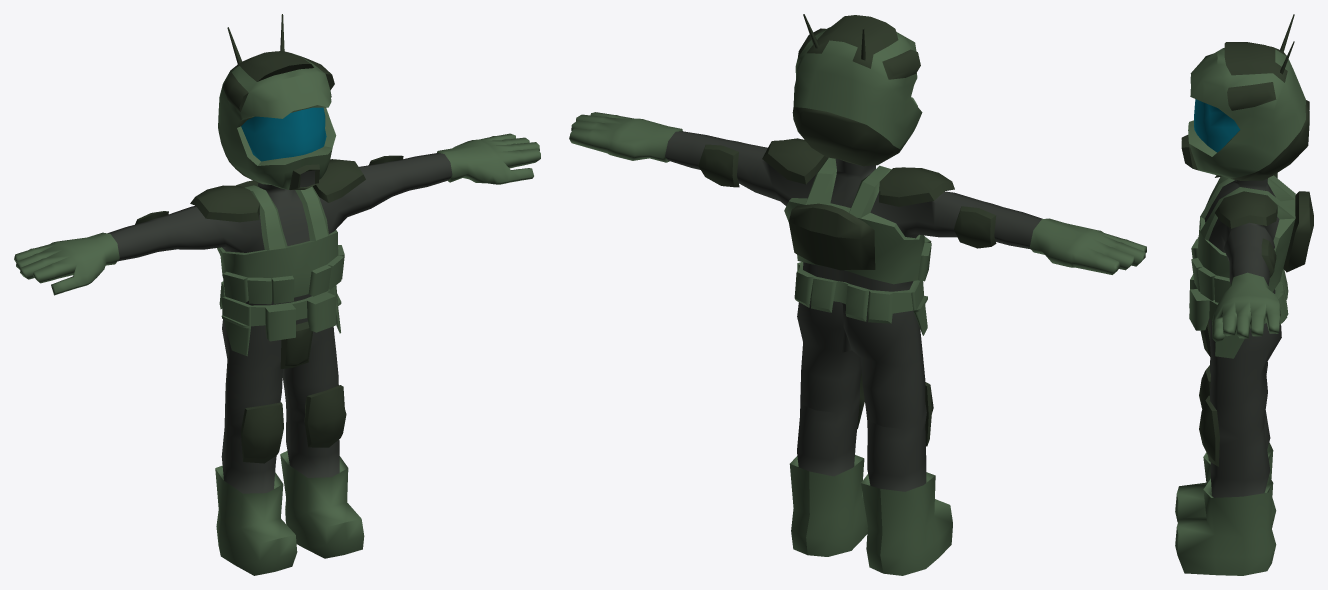
The model's file is heavycalibreguy.fbx.
3 renders of one model, left to right at view 1: azimuth 30°, elevation 25°; view 2: azimuth 150°, elevation 25°; view 3: azimuth 270°, elevation 25°, orthographic. The views are drawn at different scales.
Visible parts, largest first — view 1: pCube1; view 2: pCube1; view 3: pCube1.
Part boxes in pixels (x1,y1,x2,y2): pCube1: (14,14,540,575); pCube1: (569,14,1146,575); pCube1: (1175,14,1313,575).
Size of the model in its own units: 8.85 by 8.25 by 2.
